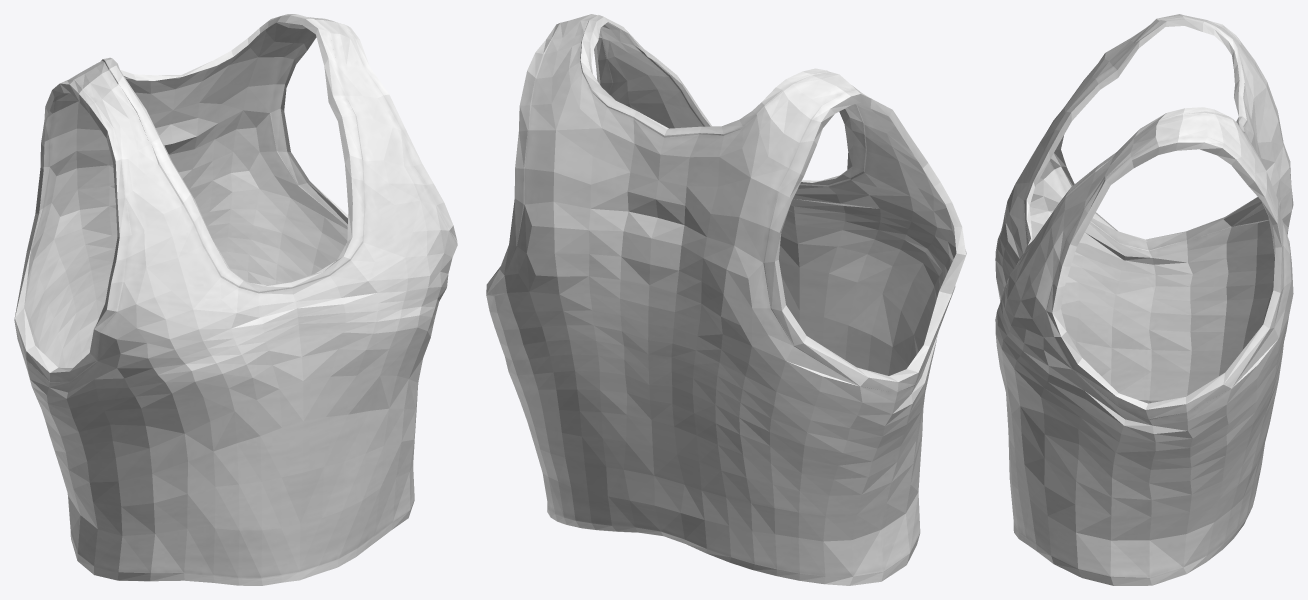
Rendered from mhw_punkduck_sleeveless_crop_top.glb.
3 renders of one model, left to right at view 1: azimuth 30°, elevation 25°; view 2: azimuth 150°, elevation 25°; view 3: azimuth 270°, elevation 25°, orthographic. The views are drawn at different scales.
Visible parts, largest first — view 1: mhw_punkduck_sleeveless_crop_top; view 2: mhw_punkduck_sleeveless_crop_top; view 3: mhw_punkduck_sleeveless_crop_top.
Part boxes in pixels (x1,y1,x2,y2): mhw_punkduck_sleeveless_crop_top: (14, 14, 457, 585); mhw_punkduck_sleeveless_crop_top: (486, 14, 966, 585); mhw_punkduck_sleeveless_crop_top: (995, 14, 1293, 585).
Bounding box in the file's own units: 0.3535 × 0.4346 × 0.2577.
Materials: 1 (1 with a texture image).
